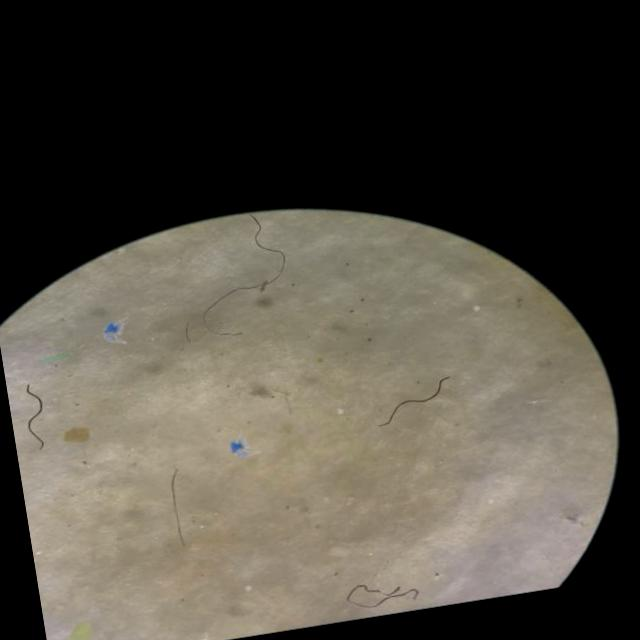fiber: (205, 214, 286, 318), (383, 377, 450, 426), (349, 584, 419, 608), (170, 468, 186, 543), (26, 383, 44, 448)
film: (104, 321, 122, 340), (232, 440, 249, 456)
fragment: (71, 621, 92, 640), (64, 427, 90, 442)
pellet: (245, 585, 252, 591), (474, 305, 479, 311), (488, 498, 494, 503), (339, 408, 344, 413)
